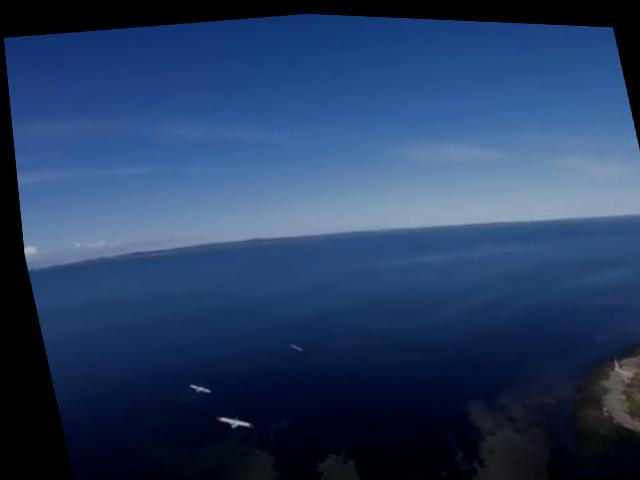uav: (204, 408, 246, 433), (180, 378, 203, 396)
